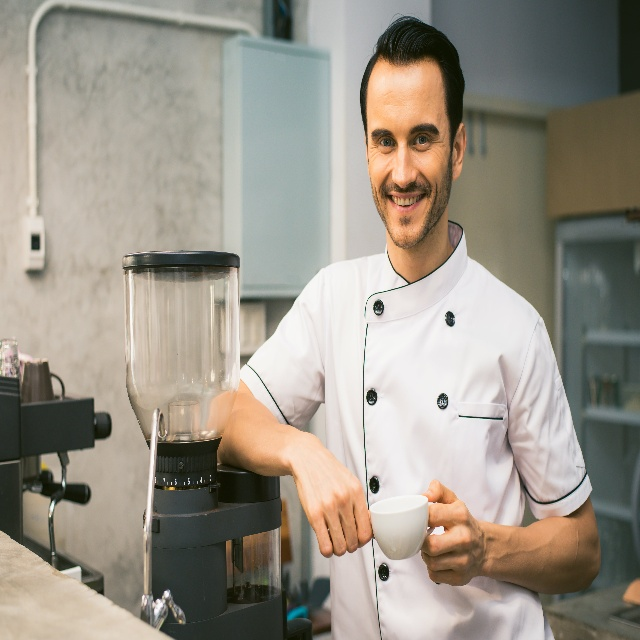Sin_guantes: (291, 434, 376, 557), (421, 478, 486, 587)
